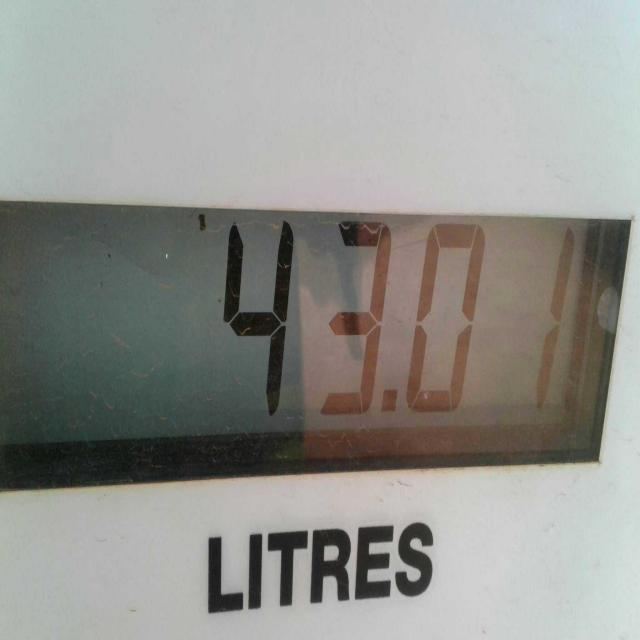.: (382, 385, 406, 418)
0: (409, 219, 490, 422)
1: (533, 222, 575, 417)
3: (320, 220, 394, 424)
4: (220, 220, 301, 419)
screen: (0, 195, 630, 490)
